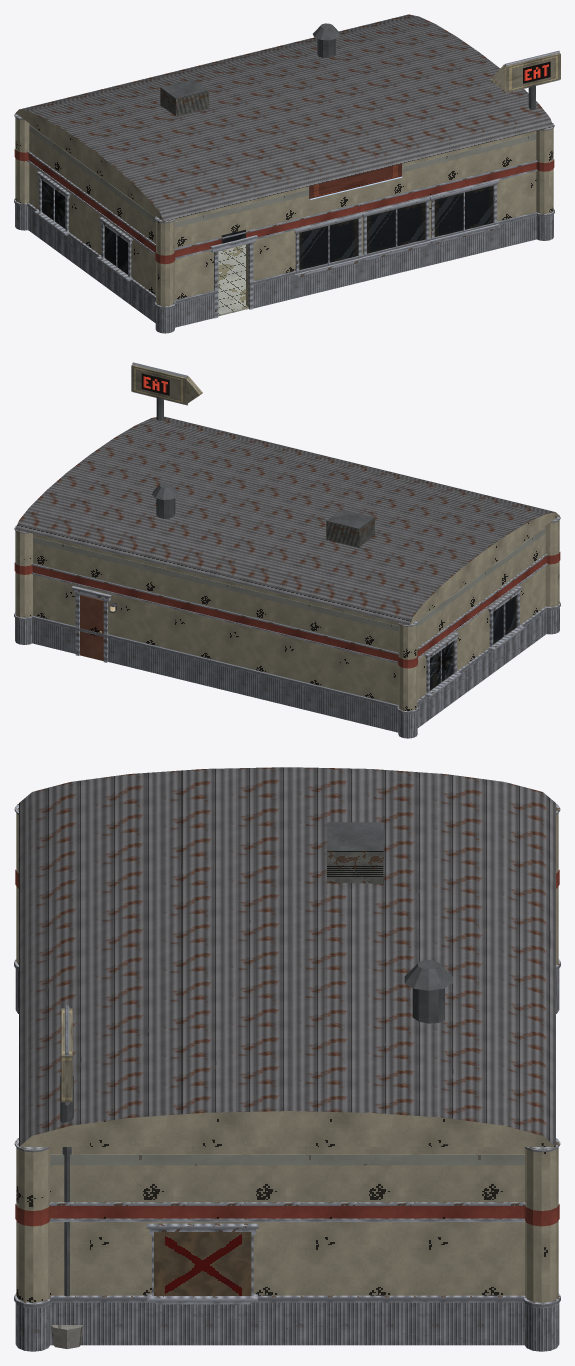
The model's file is diner.glb.
The picture shows the model from 3 angles, top to bottom: view 1: azimuth 30°, elevation 25°; view 2: azimuth 150°, elevation 25°; view 3: azimuth 270°, elevation 25°; orthographic projection. The views are drawn at different scales.
Parts seen in each view (by area): view 1: detail, shell-col; view 2: detail, shell-col; view 3: detail, shell-col.
Boxes of the visible parts, x1=… form: detail: x1=14, y1=14, x2=560, y2=333; shell-col: x1=29, y1=125, x2=536, y2=316; detail: x1=14, y1=362, x2=560, y2=738; shell-col: x1=33, y1=527, x2=545, y2=704; detail: x1=14, y1=767, x2=560, y2=1351; shell-col: x1=50, y1=1154, x2=524, y2=1295.
Size of what is drawn, in the model's own units: 15.24 by 6.12 by 9.68.
Materials: 35 (35 with a texture image).
